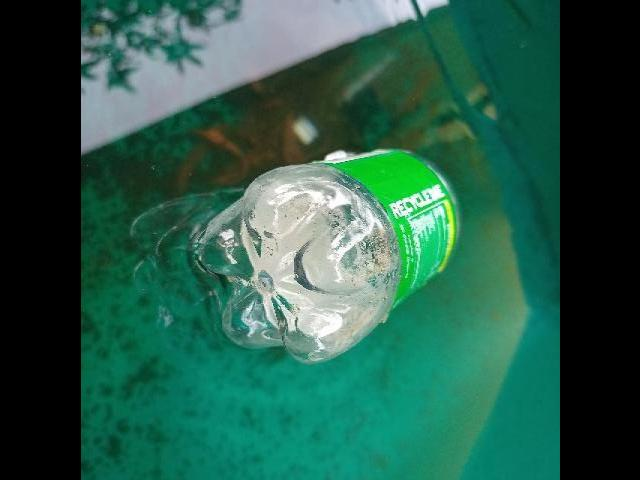Bottle: (192, 143, 462, 369)
